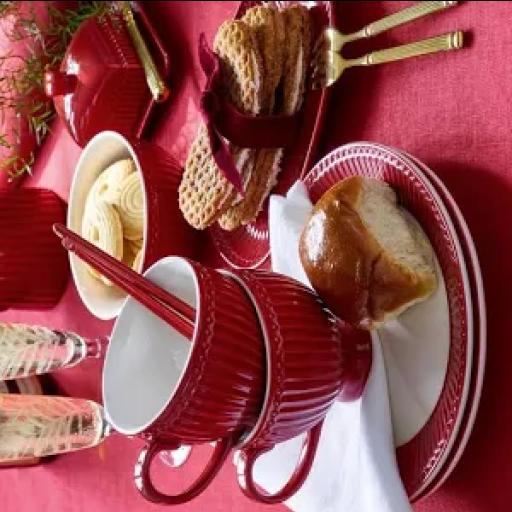red mug: (102, 256, 265, 503), (220, 271, 370, 500)
